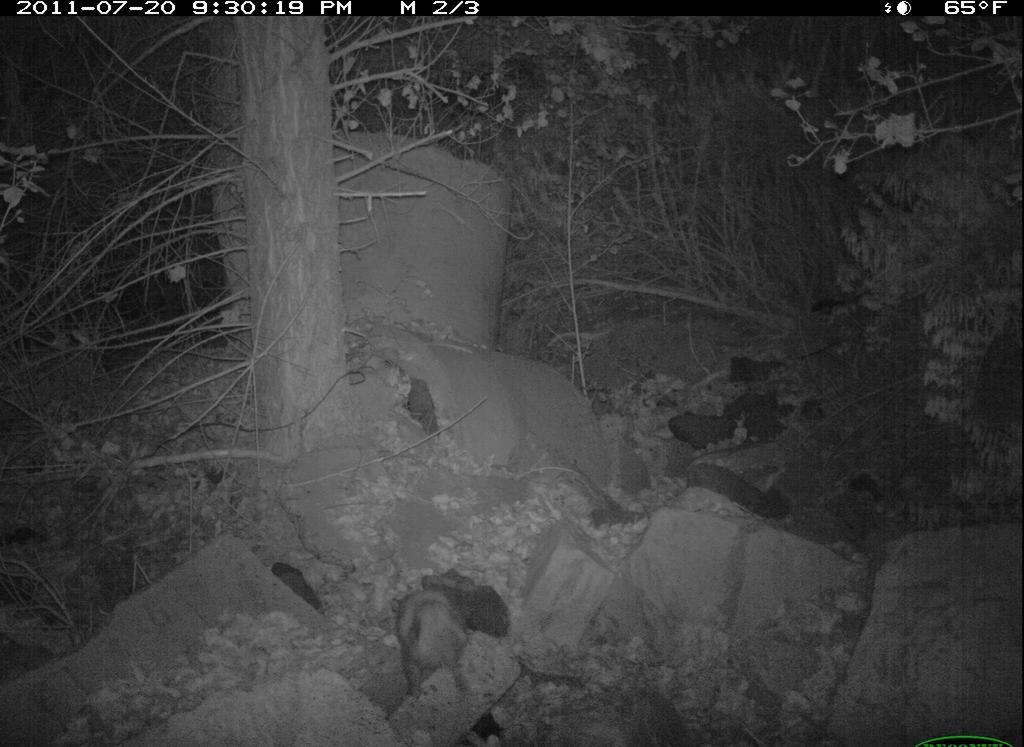opossum: (390, 580, 482, 707)
